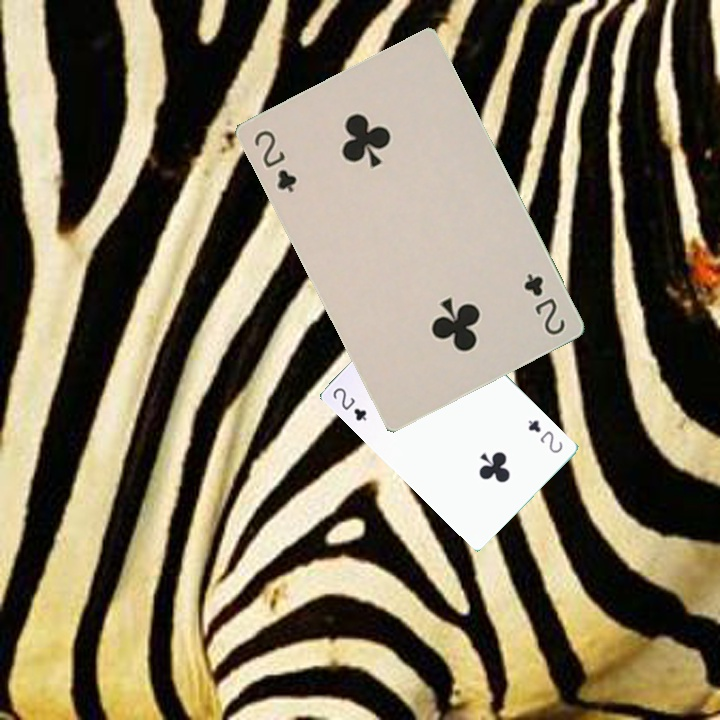2c: (249, 126, 300, 195), (519, 269, 568, 338), (524, 416, 565, 456), (329, 383, 370, 423)
